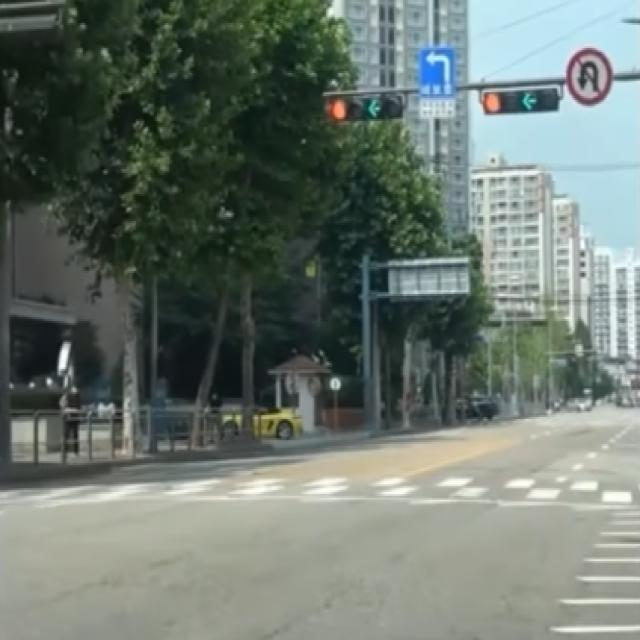Red Light: (328, 98, 348, 120), (483, 90, 502, 113)
